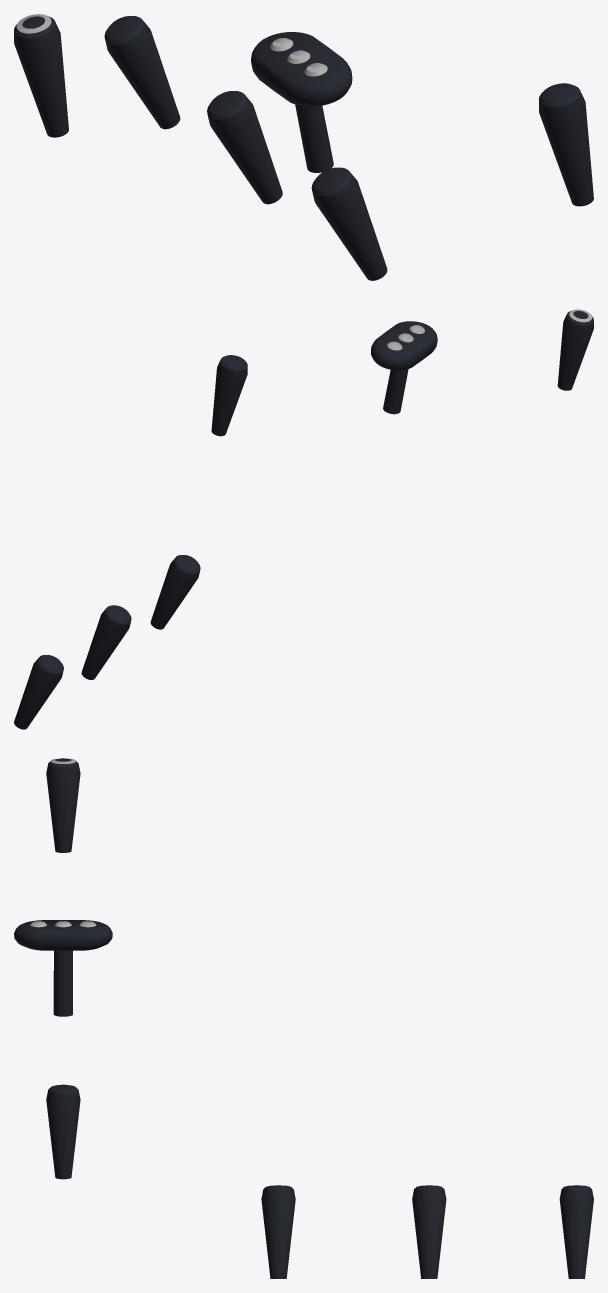
The model's file is lights_switchs.fbx.
3 renders of one model, top to bottom at view 1: azimuth 30°, elevation 25°; view 2: azimuth 150°, elevation 25°; view 3: azimuth 270°, elevation 25°, orthographic. The views are drawn at different scales.
Visible parts, largest first — view 1: lights_switchs.button2, lights_switchs.button3, lights_switchs.button5, lights_switchs.button6, lights_switchs.button4, lights_switchs.button1, lights_switchs.button2_light; view 2: lights_switchs.button2, lights_switchs.button3, lights_switchs.button4, lights_switchs.button5, lights_switchs.button6, lights_switchs.button1; view 3: lights_switchs.button2, lights_switchs.button5, lights_switchs.button6, lights_switchs.button4, lights_switchs.button3, lights_switchs.button1.
Boxes of the visible parts, bbox=[...] form: lights_switchs.button2: bbox=[251, 32, 352, 172]; lights_switchs.button3: bbox=[539, 83, 593, 206]; lights_switchs.button5: bbox=[207, 91, 282, 204]; lights_switchs.button6: bbox=[104, 16, 180, 129]; lights_switchs.button4: bbox=[311, 167, 387, 280]; lights_switchs.button1: bbox=[14, 16, 68, 137]; lights_switchs.button2_light: bbox=[270, 38, 327, 76]; lights_switchs.button2: bbox=[371, 321, 437, 414]; lights_switchs.button3: bbox=[211, 355, 247, 436]; lights_switchs.button4: bbox=[150, 555, 200, 629]; lights_switchs.button5: bbox=[81, 605, 131, 679]; lights_switchs.button6: bbox=[14, 655, 63, 729]; lights_switchs.button1: bbox=[557, 310, 593, 390]; lights_switchs.button2: bbox=[14, 920, 112, 1016]; lights_switchs.button5: bbox=[412, 1185, 446, 1278]; lights_switchs.button6: bbox=[559, 1185, 593, 1278]; lights_switchs.button4: bbox=[261, 1185, 295, 1278]; lights_switchs.button3: bbox=[46, 1084, 80, 1179]; lights_switchs.button1: bbox=[46, 758, 80, 852].
Bounding box in the file's own units: 4.99 × 6.05 × 4.04.
